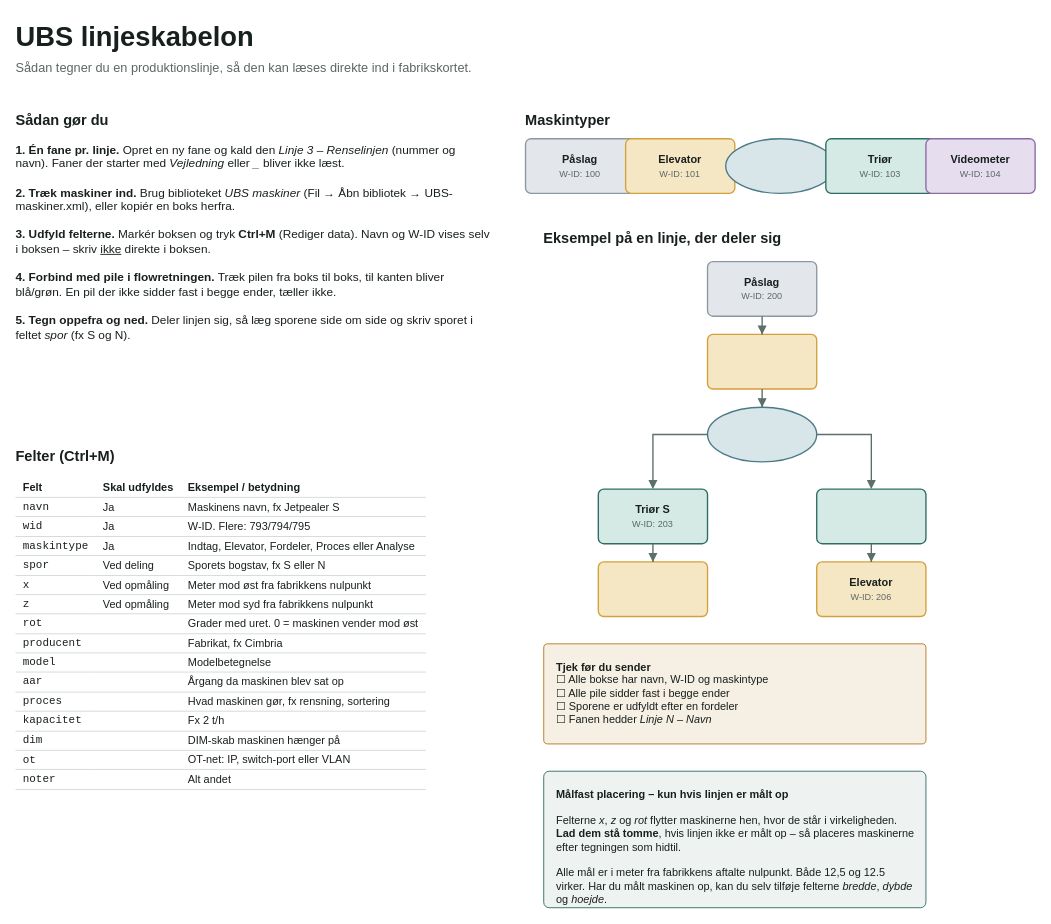
This 1051x924 diagram has some shape labels left out. The shapes that lost their labels are listed below. From the top down, each one's centre as x and y in pixels, then its label:
the point at 780,166: Fordeler W-ID: 102
the point at 761,361: Elevator W-ID: 201
the point at 761,434: Fordeler W-ID: 202
the point at 871,516: Triør N W-ID: 204
the point at 652,589: Elevator W-ID: 205
